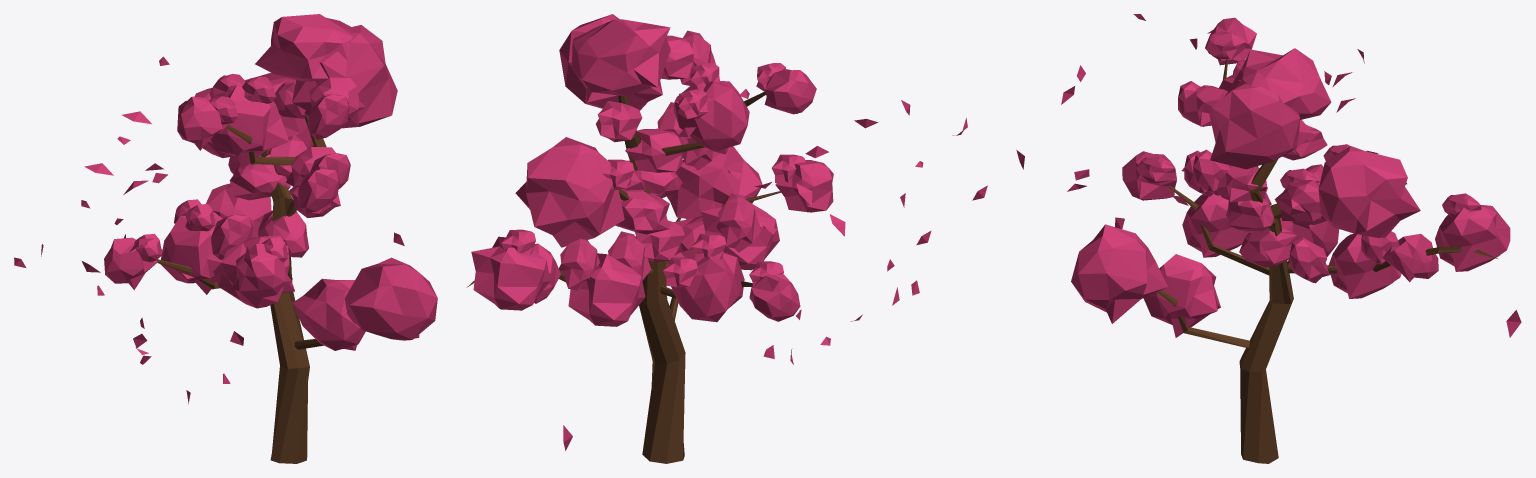
Rendered from google poly.glb.
The picture shows the model from 3 angles, left to right: view 1: azimuth 30°, elevation 25°; view 2: azimuth 150°, elevation 25°; view 3: azimuth 270°, elevation 25°; orthographic projection. The views are drawn at different scales.
Parts seen in each view (by area): view 1: node-0; view 2: node-0; view 3: node-0.
Boxes of the visible parts, x1,y1,x2,y2 form: node-0: [14, 14, 437, 463]; node-0: [466, 14, 987, 463]; node-0: [1016, 14, 1521, 463].
Size of the model in its own units: 121 by 150 by 166.
